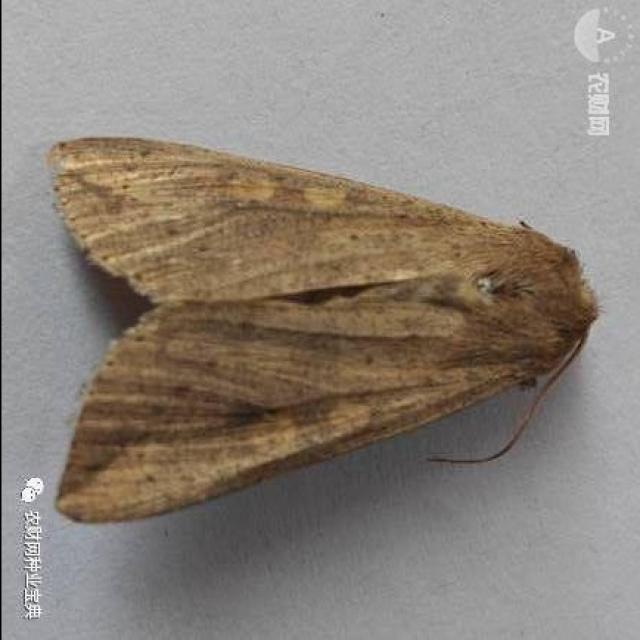army worm: (50, 130, 610, 532)
